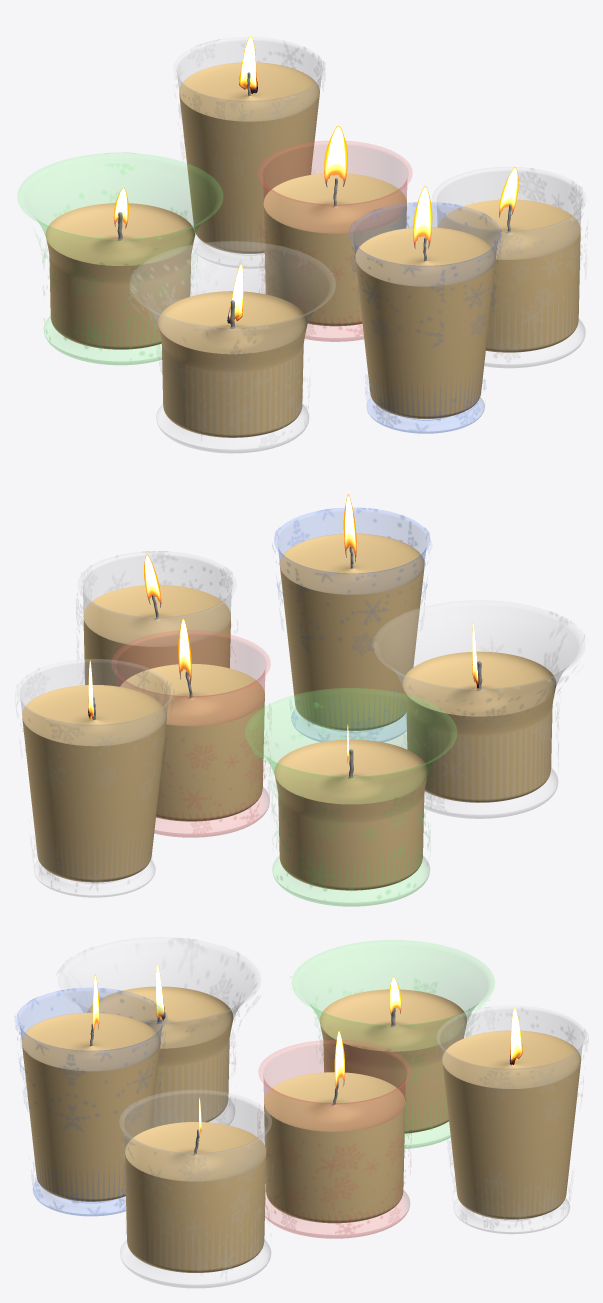
File: candles.glb
3 renders of one model, top to bottom at view 1: azimuth 30°, elevation 25°; view 2: azimuth 150°, elevation 25°; view 3: azimuth 270°, elevation 25°, orthographic. The views are drawn at different scales.
Visible parts, largest first — view 1: Cylinder.007, Cylinder.004, Cylinder.001, Cylinder.005, Cylinder.011, Cylinder.010, Cylinder.009, Cylinder.003, Cylinder.002, Cylinder.006, Cylinder.008, Cylinder (+4 smaller); view 2: Cylinder.001, Cylinder.007, Cylinder.004, Cylinder.011, Cylinder.010, Cylinder.005, Cylinder.009, Cylinder.003, Cylinder, Cylinder.008, Cylinder.006, Cylinder.002 (+2 smaller); view 3: Cylinder.001, Cylinder.007, Cylinder.003, Cylinder.009, Cylinder.010, Cylinder.002, Cylinder.004, Cylinder.011, Cylinder.008, Cylinder.005, Cylinder, Cylinder.006 (+2 smaller).
Boxes of the visible parts, left/top/right/bottom form: Cylinder.007: left=355, top=227, right=495, bottom=418; Cylinder.004: left=128, top=241, right=335, bottom=453; Cylinder.001: left=179, top=62, right=319, bottom=253; Cylinder.005: left=158, top=291, right=307, bottom=437; Cylinder.011: left=45, top=203, right=194, bottom=349; Cylinder.010: left=17, top=153, right=222, bottom=364; Cylinder.009: left=263, top=173, right=406, bottom=326; Cylinder.003: left=438, top=199, right=580, bottom=352; Cylinder.002: left=432, top=167, right=587, bottom=367; Cylinder.006: left=349, top=202, right=502, bottom=433; Cylinder.008: left=258, top=141, right=412, bottom=341; Cylinder: left=173, top=37, right=325, bottom=268; Cylinder.001: left=22, top=685, right=166, bottom=882; Cylinder.007: left=279, top=533, right=424, bottom=731; Cylinder.004: left=371, top=600, right=585, bottom=818; Cylinder.011: left=274, top=739, right=427, bottom=890; Cylinder.010: left=245, top=688, right=456, bottom=906; Cylinder.005: left=402, top=651, right=556, bottom=802; Cylinder.009: left=120, top=663, right=264, bottom=821; Cylinder.003: left=83, top=584, right=230, bottom=686; Cylinder: left=16, top=659, right=173, bottom=897; Cylinder.008: left=112, top=630, right=270, bottom=837; Cylinder.006: left=272, top=508, right=431, bottom=741; Cylinder.002: left=76, top=551, right=237, bottom=683; Cylinder.001: left=442, top=1030, right=581, bottom=1219; Cylinder.007: left=21, top=1012, right=160, bottom=1201; Cylinder.003: left=125, top=1122, right=266, bottom=1272; Cylinder.009: left=264, top=1072, right=405, bottom=1223; Cylinder.010: left=290, top=940, right=494, bottom=1148; Cylinder.002: left=118, top=1090, right=272, bottom=1287; Cylinder.004: left=57, top=937, right=260, bottom=1126; Cylinder.011: left=319, top=989, right=466, bottom=1133; Cylinder.008: left=257, top=1040, right=411, bottom=1238; Cylinder.005: left=87, top=986, right=233, bottom=1128; Cylinder: left=435, top=1006, right=588, bottom=1233; Cylinder.006: left=15, top=988, right=167, bottom=1215.
Size of what is drawn, in the model's own units: 541 by 257 by 599.
Materials: 13 (6 with a texture image).
